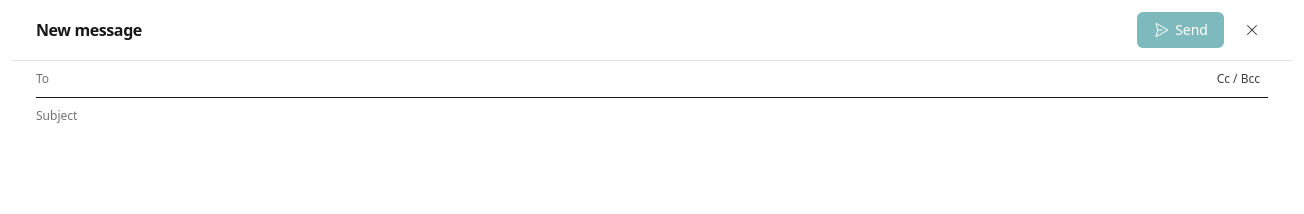
addressing › hides the copy lines until they are asked for
Click the button with test id "composer-show-copies" at (1238, 79), box [1209,67,1268,91]
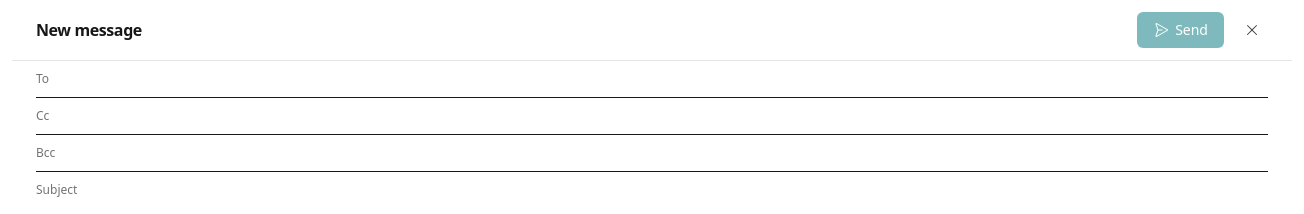
Now the field with test id "composer-cc" is shown, box [112,98,1268,134]
Now the field with test id "composer-bcc" is shown, box [112,135,1268,171]
